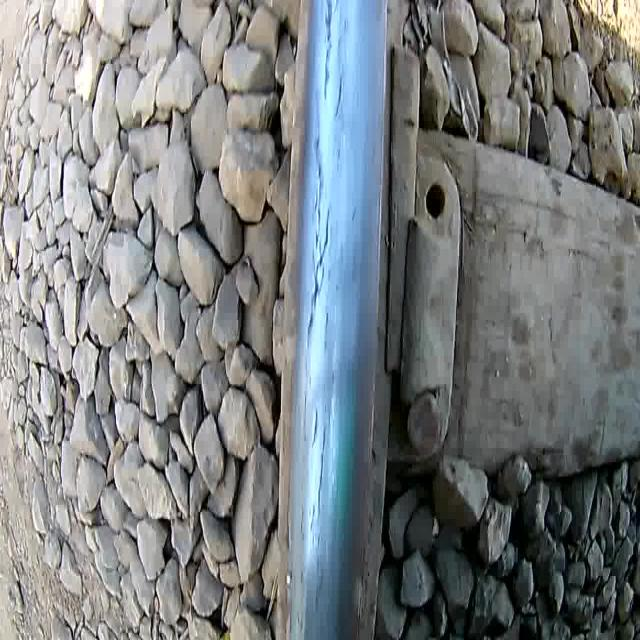Cracks: (303, 121, 334, 368), (303, 416, 330, 555), (320, 0, 335, 109), (331, 68, 346, 125), (308, 400, 320, 457)
